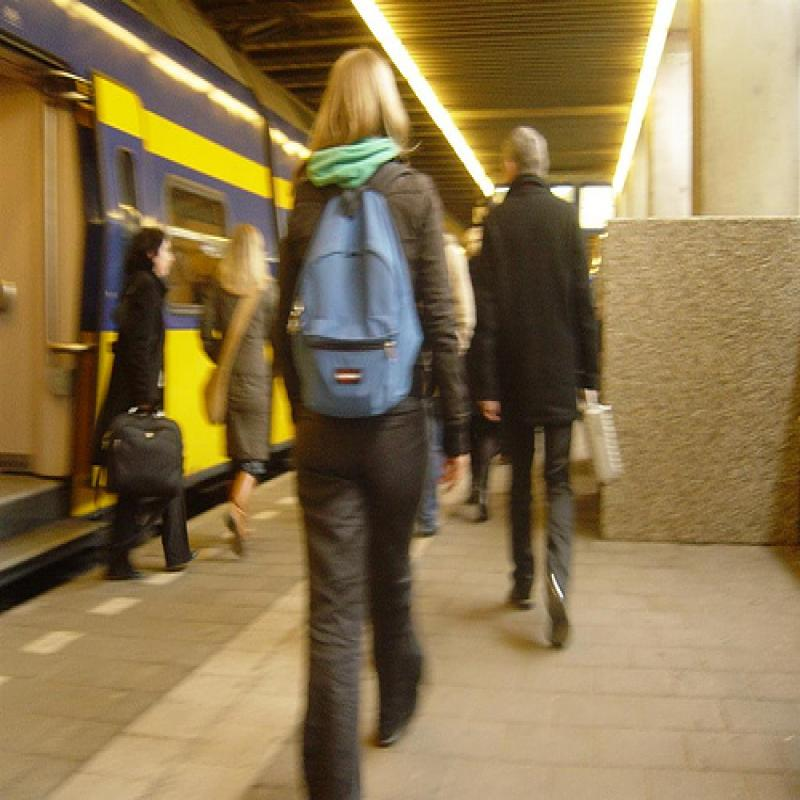train: (1, 1, 311, 594)
